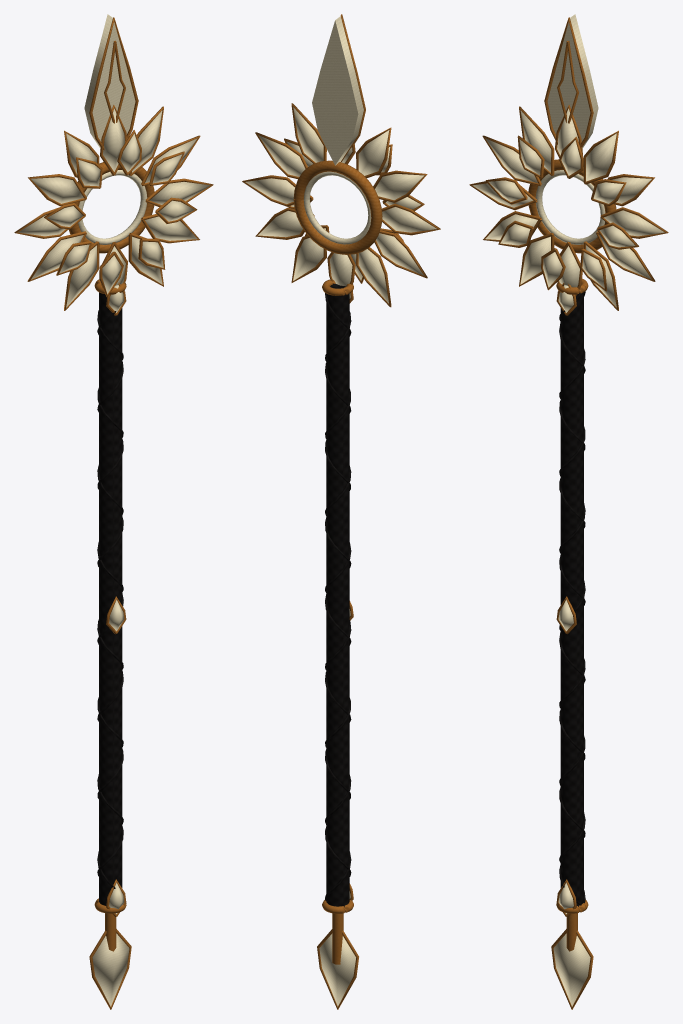
Rendered from stowed.glb.
The picture shows the model from 3 angles, left to right: view 1: azimuth 30°, elevation 25°; view 2: azimuth 150°, elevation 25°; view 3: azimuth 330°, elevation 25°; orthographic projection.
Visible parts, largest first — view 1: Grey_woven_grip_carried_snapshot, Folded_ivory_blade_carried_snapshot, Counterweight_finial_carried_snapshot, Crossed_grip_binding_carried_snapshot, Inner_enamel_circle_carried_snapshot, Crossed_grip_binding.001_carried_snapshot, Gold_blade_edge_carried_snapshot, Lotus_petal.010_carried_snapshot, Open_lotus_gold_core_carried_snapshot, Lotus_petal_carried_snapshot, Lotus_petal.004_carried_snapshot, Lotus_petal.007_carried_snapshot (+7 smaller); view 2: Grey_woven_grip_carried_snapshot, Folded_ivory_blade_carried_snapshot, Open_lotus_gold_core_carried_snapshot, Counterweight_finial_carried_snapshot, Crossed_grip_binding.001_carried_snapshot, Crossed_grip_binding_carried_snapshot, Inner_enamel_circle_carried_snapshot, Lotus_petal.011_carried_snapshot, Lotus_petal.010_carried_snapshot, Lotus_petal.009_carried_snapshot, Lotus_petal.001_carried_snapshot, Lotus_petal.008_carried_snapshot (+8 smaller); view 3: Grey_woven_grip_carried_snapshot, Folded_ivory_blade_carried_snapshot, Counterweight_finial_carried_snapshot, Crossed_grip_binding.001_carried_snapshot, Crossed_grip_binding_carried_snapshot, Inner_enamel_circle_carried_snapshot, Gold_blade_edge_carried_snapshot, Lotus_petal.001_carried_snapshot, Open_lotus_gold_core_carried_snapshot, Lotus_petal.003_carried_snapshot, Lotus_petal.010_carried_snapshot, Lotus_petal.007_carried_snapshot (+6 smaller).
Part boxes in pixels (bbox=[...]): Grey_woven_grip_carried_snapshot: bbox=[99, 292, 122, 905]; Folded_ivory_blade_carried_snapshot: bbox=[84, 14, 135, 148]; Counterweight_finial_carried_snapshot: bbox=[92, 933, 129, 1006]; Crossed_grip_binding_carried_snapshot: bbox=[97, 310, 123, 888]; Inner_enamel_circle_carried_snapshot: bbox=[78, 170, 147, 244]; Crossed_grip_binding.001_carried_snapshot: bbox=[97, 311, 123, 876]; Gold_blade_edge_carried_snapshot: bbox=[89, 17, 138, 150]; Lotus_petal.010_carried_snapshot: bbox=[31, 177, 83, 203]; Open_lotus_gold_core_carried_snapshot: bbox=[68, 162, 154, 253]; Lotus_petal_carried_snapshot: bbox=[103, 108, 124, 171]; Lotus_petal.004_carried_snapshot: bbox=[145, 216, 197, 240]; Lotus_petal.007_carried_snapshot: bbox=[66, 245, 96, 307]; Grey_woven_grip_carried_snapshot: bbox=[326, 283, 349, 907]; Folded_ivory_blade_carried_snapshot: bbox=[312, 16, 363, 165]; Open_lotus_gold_core_carried_snapshot: bbox=[293, 160, 382, 254]; Counterweight_finial_carried_snapshot: bbox=[319, 933, 355, 1006]; Crossed_grip_binding.001_carried_snapshot: bbox=[325, 311, 351, 900]; Crossed_grip_binding_carried_snapshot: bbox=[325, 293, 351, 876]; Inner_enamel_circle_carried_snapshot: bbox=[303, 171, 371, 244]; Lotus_petal.011_carried_snapshot: bbox=[358, 130, 389, 175]; Lotus_petal.010_carried_snapshot: bbox=[375, 174, 424, 200]; Lotus_petal.009_carried_snapshot: bbox=[382, 207, 436, 232]; Lotus_petal.001_carried_snapshot: bbox=[293, 107, 323, 162]; Lotus_petal.008_carried_snapshot: bbox=[376, 233, 423, 275]; Grey_woven_grip_carried_snapshot: bbox=[560, 292, 583, 906]; Folded_ivory_blade_carried_snapshot: bbox=[547, 14, 598, 148]; Counterweight_finial_carried_snapshot: bbox=[553, 933, 590, 1006]; Crossed_grip_binding.001_carried_snapshot: bbox=[559, 293, 585, 903]; Crossed_grip_binding_carried_snapshot: bbox=[559, 291, 585, 905]; Inner_enamel_circle_carried_snapshot: bbox=[535, 170, 605, 244]; Gold_blade_edge_carried_snapshot: bbox=[544, 17, 593, 147]; Lotus_petal.001_carried_snapshot: bbox=[586, 133, 616, 181]; Open_lotus_gold_core_carried_snapshot: bbox=[528, 159, 616, 253]; Lotus_petal.003_carried_snapshot: bbox=[604, 210, 664, 236]; Lotus_petal.010_carried_snapshot: bbox=[485, 138, 537, 182]; Lotus_petal.007_carried_snapshot: bbox=[520, 236, 550, 284].
Bounding box in the file's own units: 0.4715 × 2.25 × 0.092.
Materials: 3 (3 with a texture image).
